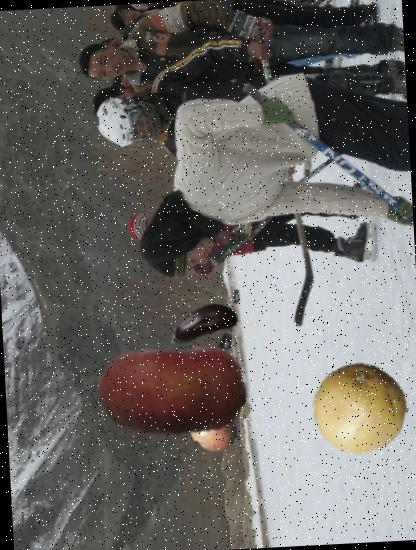Eggplant: (162, 284, 242, 362)
Granadilla: (176, 390, 242, 458)
Grapefruit: (310, 358, 412, 458)
Nectarine: (96, 314, 250, 468)
